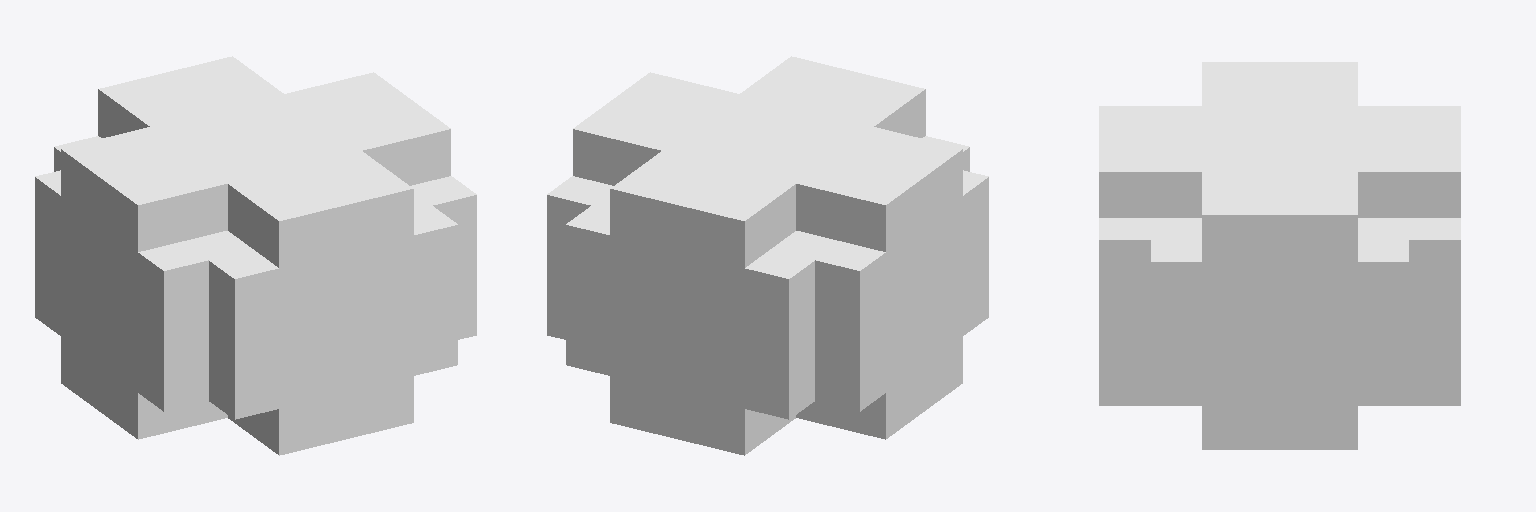
The model's file is pipe_cross.obj.
3 views of the same model, side by side, from view 1: azimuth 30°, elevation 25°; view 2: azimuth 150°, elevation 25°; view 3: azimuth 270°, elevation 25° (orthographic).
Visible parts, largest first — view 1: pipe_cross; view 2: pipe_cross; view 3: pipe_cross.
Boxes of the visible parts, x1=… form: pipe_cross: x1=35, y1=56, x2=476, y2=455; pipe_cross: x1=547, y1=56, x2=988, y2=455; pipe_cross: x1=1099, y1=62, x2=1460, y2=449.
Bounding box in the file's own units: 7 × 5 × 7.